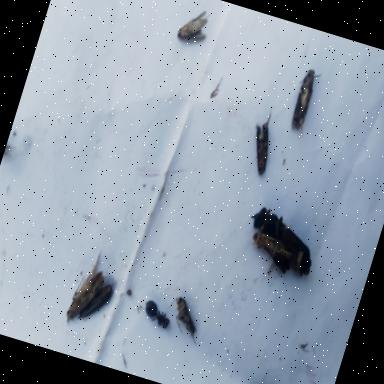pbw: (63, 245, 112, 331), (240, 105, 283, 175), (283, 66, 323, 140), (243, 228, 298, 280), (158, 292, 208, 346), (75, 278, 114, 328), (174, 2, 214, 48)
